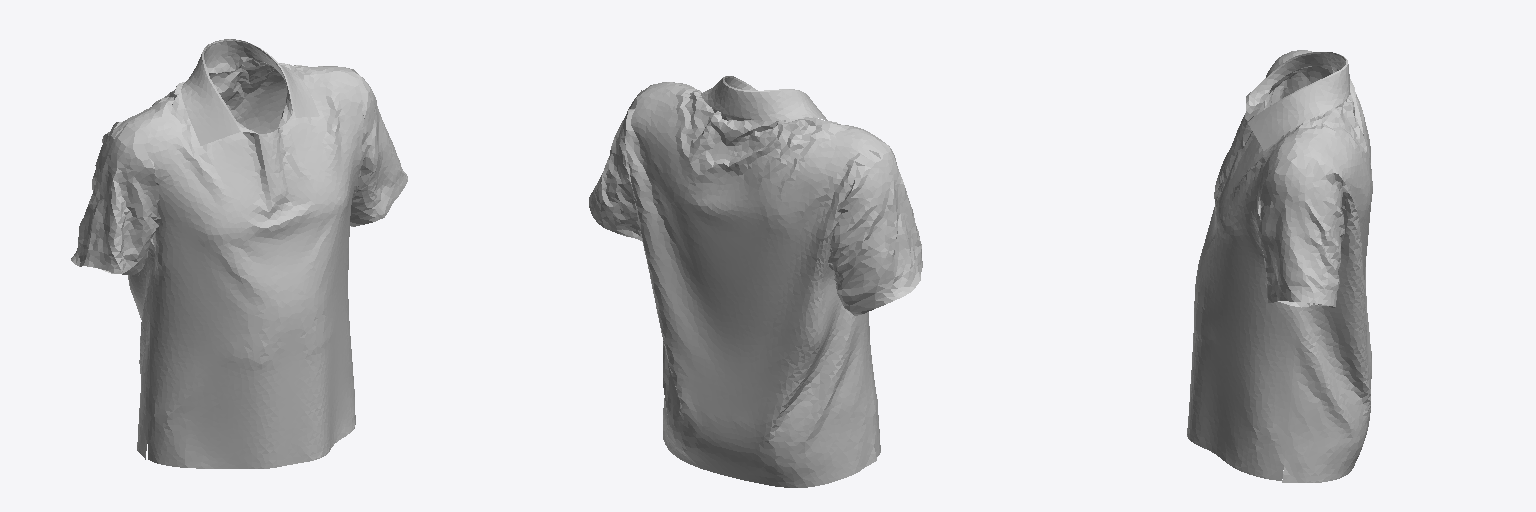
File: Small_Short.obj
3 views of the same model, side by side, from view 1: azimuth 30°, elevation 25°; view 2: azimuth 150°, elevation 25°; view 3: azimuth 270°, elevation 25° (orthographic).
Parts seen in each view (by area): view 1: polo3-30.007; view 2: polo3-30.007; view 3: polo3-30.007.
Part boxes in pixels (bbox=[...]): polo3-30.007: bbox=[71, 39, 407, 468]; polo3-30.007: bbox=[589, 76, 922, 487]; polo3-30.007: bbox=[1187, 50, 1372, 482].
Bounding box in the file's own units: 0.582 × 0.6574 × 0.2882.